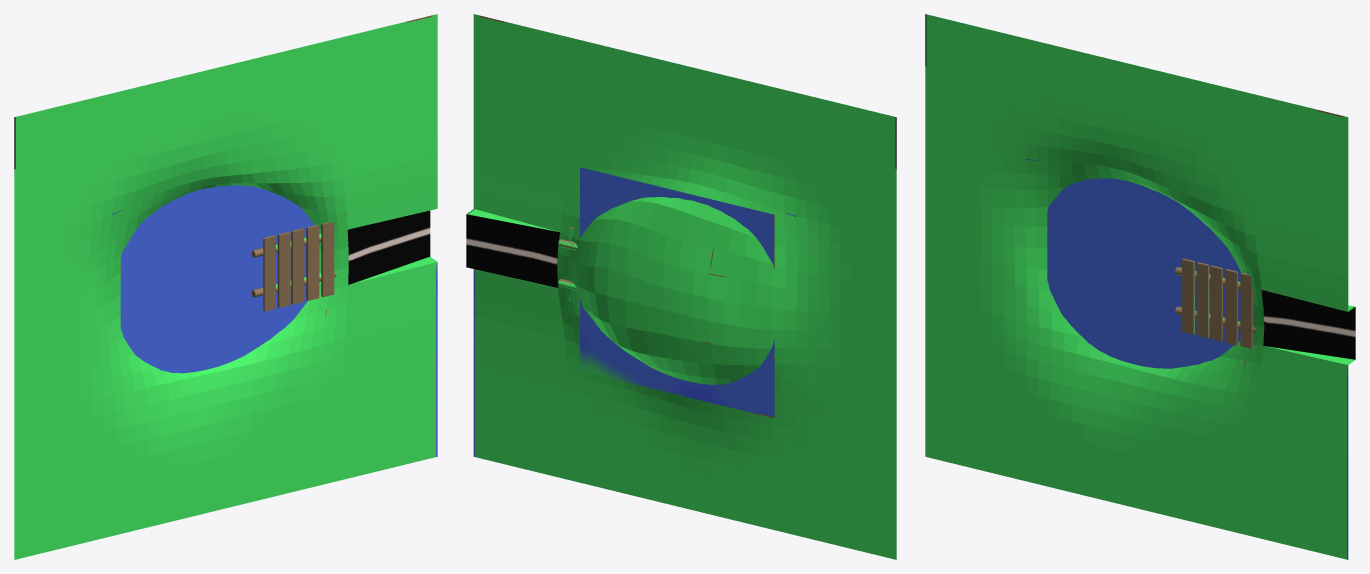
The model's file is lac.obj.
3 views of the same model, side by side, from view 1: azimuth 30°, elevation 25°; view 2: azimuth 150°, elevation 25°; view 3: azimuth 330°, elevation 25° (orthographic).
Parts seen in each view (by area): view 1: Plane; view 2: Plane; view 3: Plane.
Boxes of the visible parts, x1=… form: Plane: x1=14, y1=14, x2=437, y2=559; Plane: x1=466, y1=14, x2=896, y2=559; Plane: x1=925, y1=14, x2=1355, y2=559.
Bounding box in the file's own units: 10 × 10 × 0.8246.
1 material, 1 textured.
